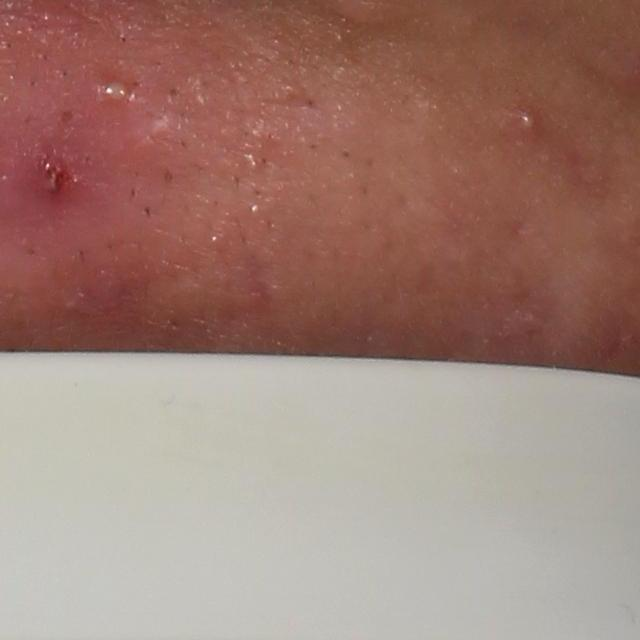papule: (33, 152, 74, 203)
pustule: (507, 104, 542, 138), (97, 76, 132, 108)
